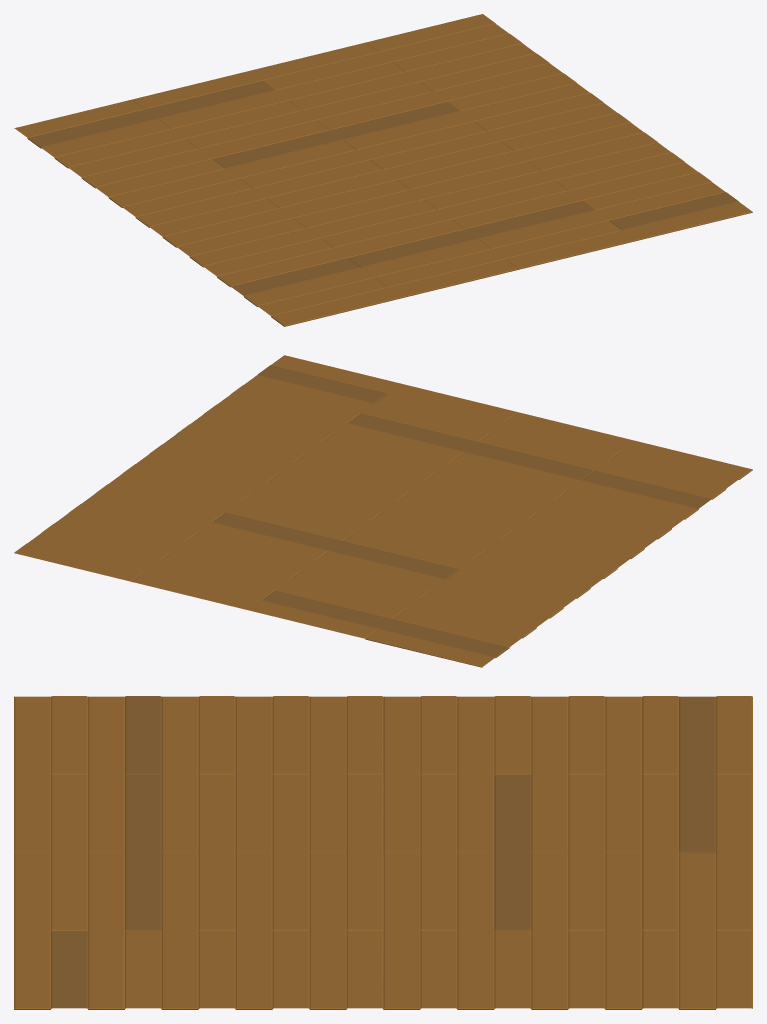
Rendered from Floorong-1.fbx.
3 views of the same model, one above another, from view 1: azimuth 30°, elevation 25°; view 2: azimuth 150°, elevation 25°; view 3: azimuth 270°, elevation 25° (orthographic). The views are drawn at different scales.
Visible parts, largest first — view 1: Flooring2x2; view 2: Flooring2x2; view 3: Flooring2x2.
Part boxes in pixels (<box>): Flooring2x2: <box>14,14,752,326</box>; Flooring2x2: <box>14,355,752,667</box>; Flooring2x2: <box>14,696,752,1009</box>.
Bounding box in the file's own units: 2.88 × 0.006 × 2.88.
